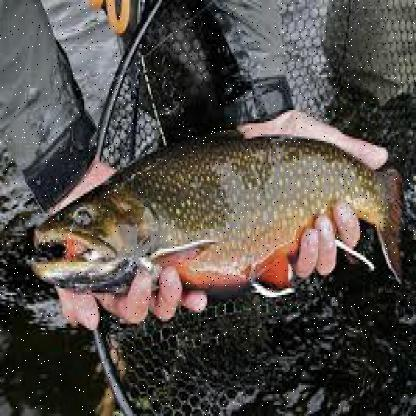fish: (18, 132, 408, 310)
